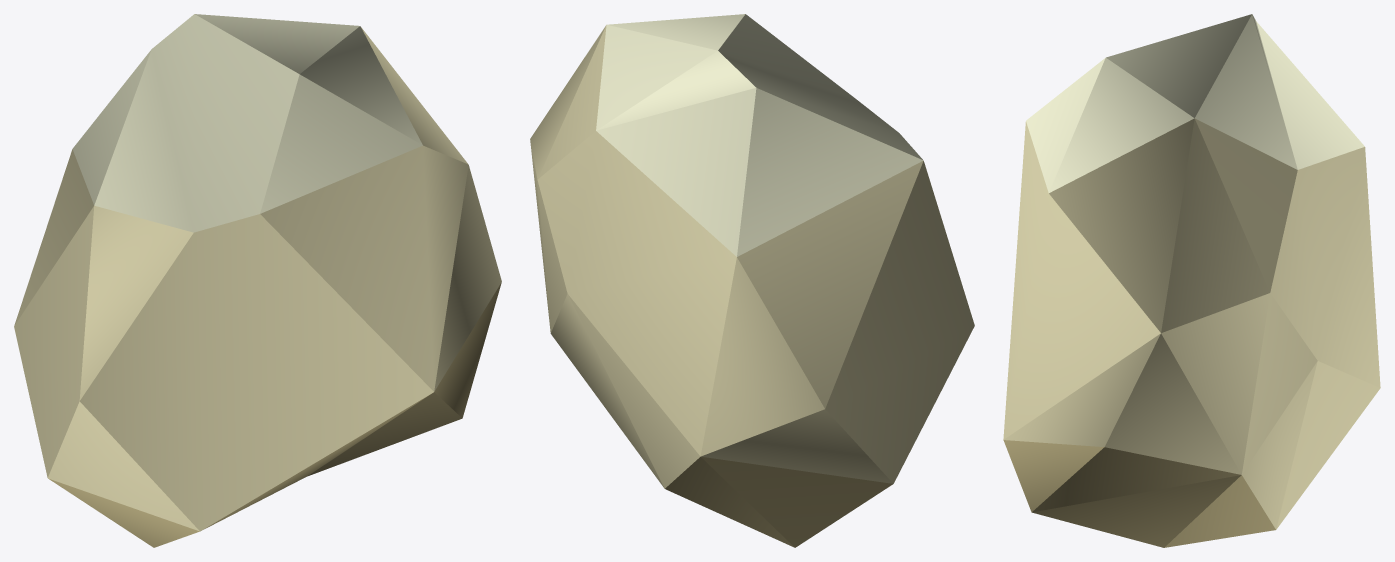
3 views of the same model, side by side, from view 1: azimuth 30°, elevation 25°; view 2: azimuth 150°, elevation 25°; view 3: azimuth 270°, elevation 25° (orthographic). The views are drawn at different scales.
Visible parts, largest first — view 1: Object048; view 2: Object048; view 3: Object048.
Part boxes in pixels (x1,y1,x2,y2): Object048: (14, 14, 501, 547); Object048: (530, 14, 974, 547); Object048: (1003, 14, 1380, 547).
Bounding box in the file's own units: 24.26 × 27.36 × 16.84.
